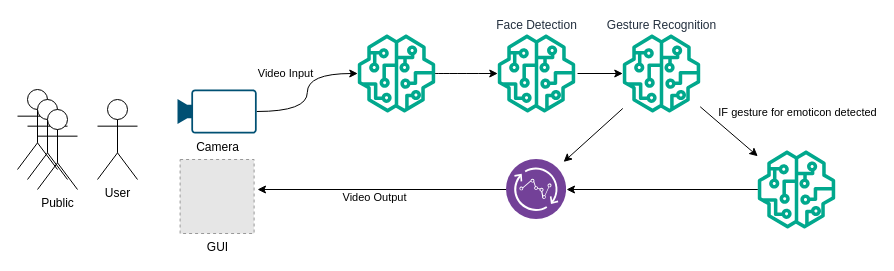
Some shapes in this 894 by 271 pixel diagram are drawn without their labels. Grey dashed boxes stand in for pictures. Here are the shapes that lost their labels. From the top down, the box of each, then its label:
(357, 34, 435, 112): Person Detection
(506, 159, 566, 219): Video Processing
(757, 150, 835, 228): Emotion Recognition
